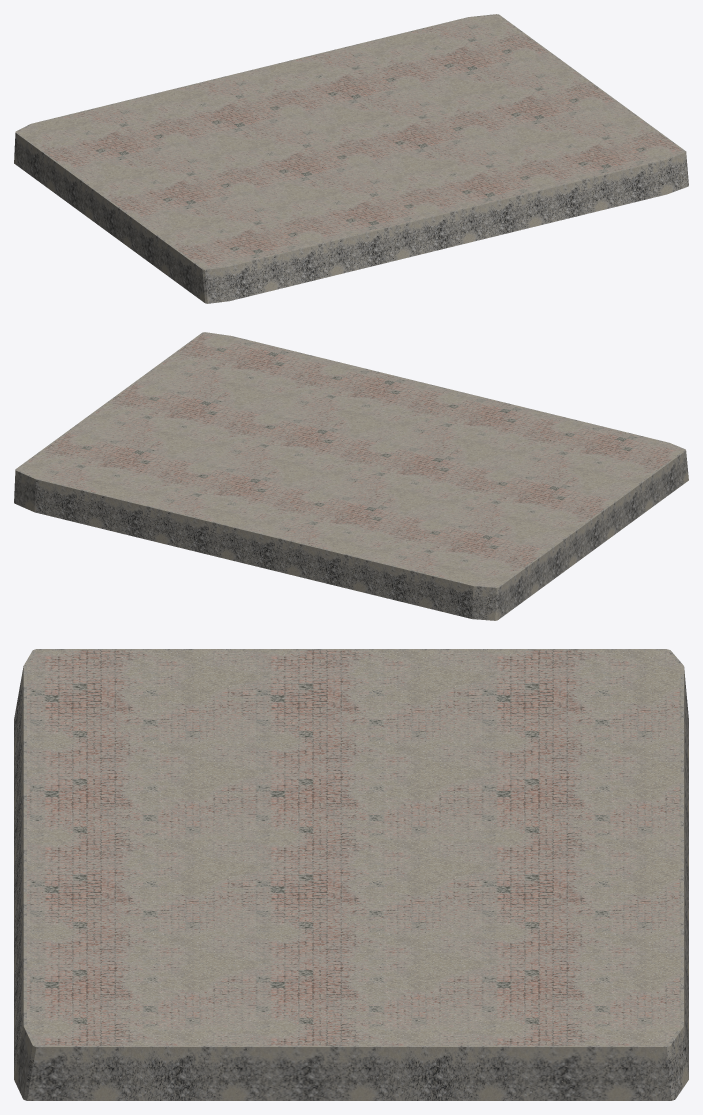
3 renders of one model, top to bottom at view 1: azimuth 30°, elevation 25°; view 2: azimuth 150°, elevation 25°; view 3: azimuth 270°, elevation 25°, orthographic. The views are drawn at different scales.
Visible parts, largest first — view 1: base_l00; view 2: base_l00; view 3: base_l00.
Part boxes in pixels (left/top/right/bottom): base_l00: left=14, top=14, right=688, bottom=303; base_l00: left=14, top=332, right=688, bottom=620; base_l00: left=14, top=649, right=688, bottom=1100.
Bounding box in the file's own units: 2000 × 126 × 1433.
